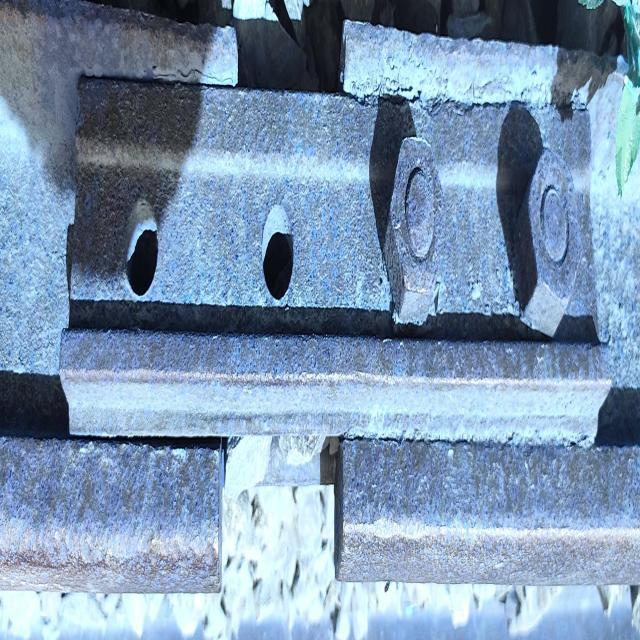Defective Joint: (60, 80, 620, 444)
